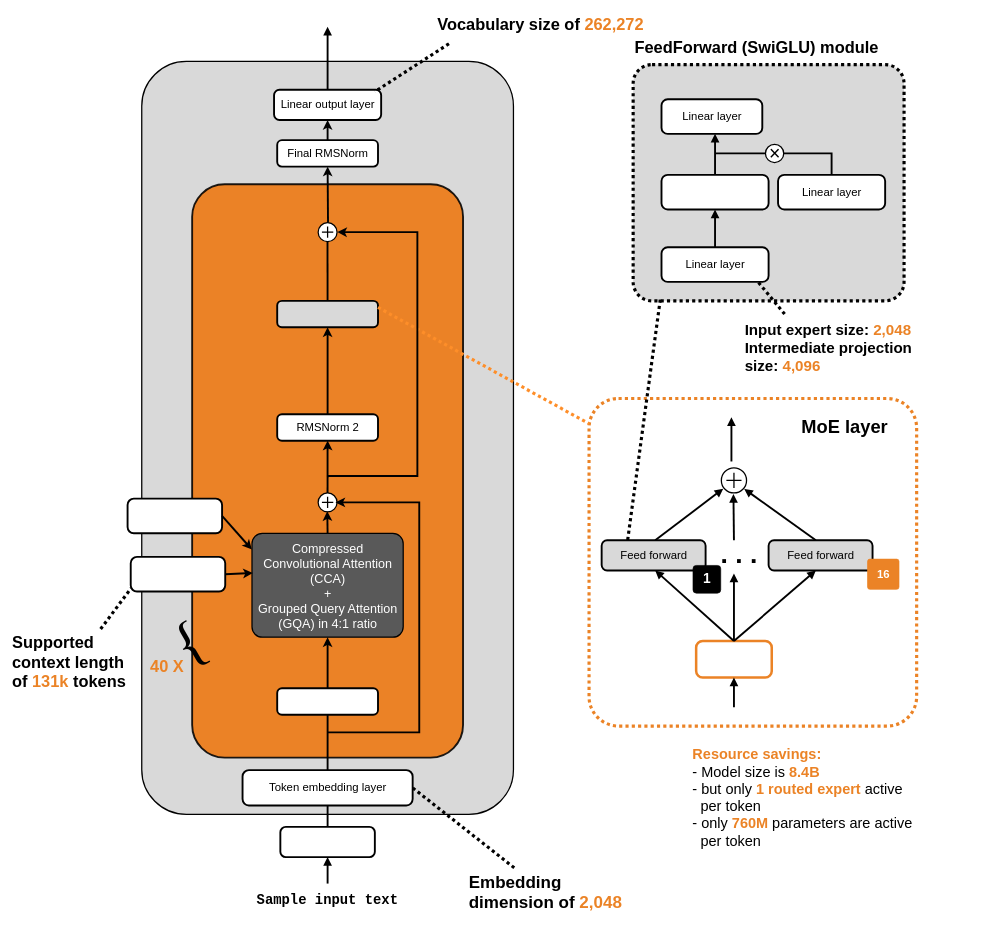
Image size: 990x944. Some labels were removed from this diagram. Here are the shapes that lost their labels. From the top down, the box of each, then its label:
(660, 174, 769, 210): SiLU activation
(276, 300, 379, 328): MoE
(126, 497, 223, 534): QK-Norm
(129, 556, 226, 592): RoPE
(695, 639, 773, 679): Router
(276, 687, 379, 715): RMSNorm 1
(279, 826, 375, 858): Tokenized text
